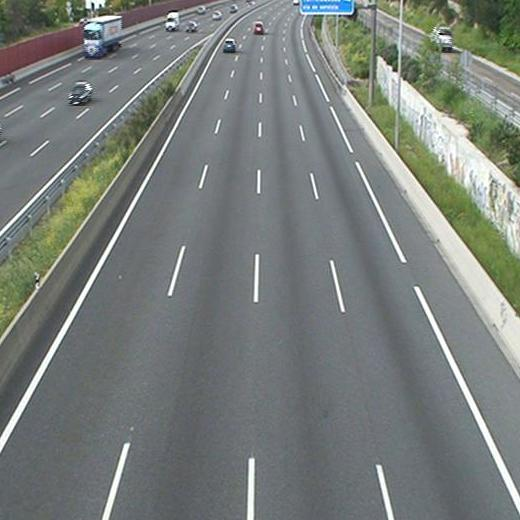car: (222, 39, 236, 52), (254, 21, 265, 34)
